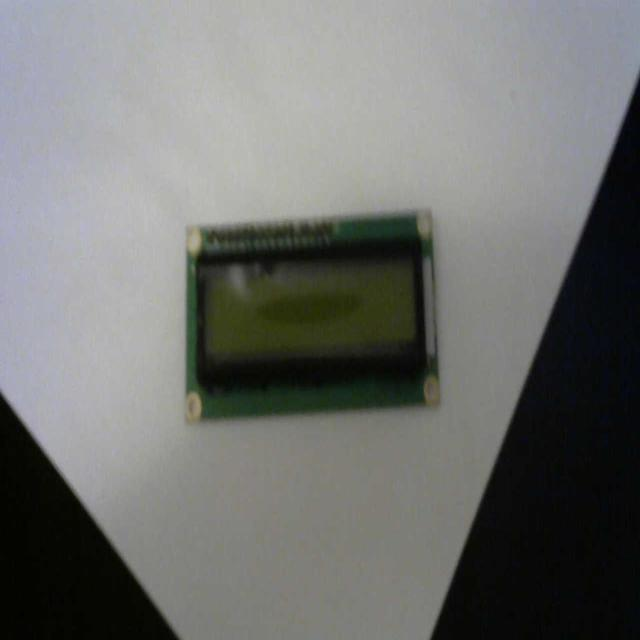lcd: (183, 206, 441, 423)
